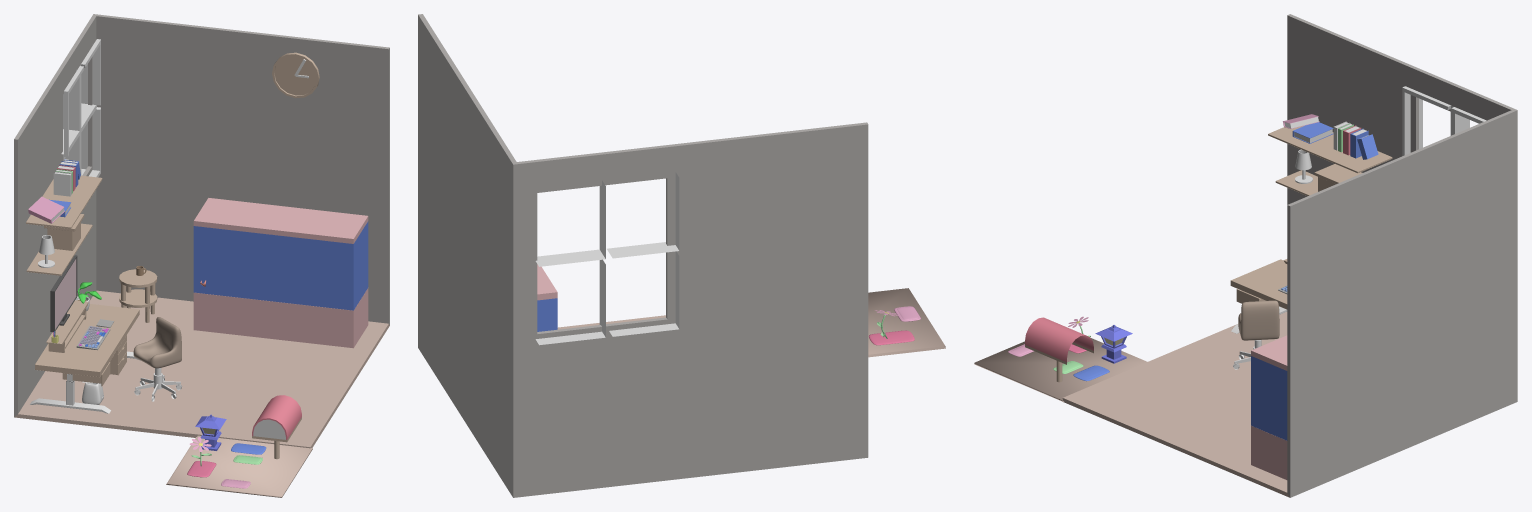
Rendered from FinalRoom.glb.
3 views of the same model, side by side, from view 1: azimuth 30°, elevation 25°; view 2: azimuth 150°, elevation 25°; view 3: azimuth 270°, elevation 25° (orthographic). The views are drawn at different scales.
Parts seen in each view (by area): view 1: BackupRoom, water, Cube.083, Cube.090, Plane, TableTop, Cylinder.015, Cylinder.014, Cube.082, TableTop.006, TableTop.002, TableTop.005 (+11 smaller); view 2: BackupRoom, Plane, Cube.090, water; view 3: BackupRoom, Cube.090, water, Cube.083, Cylinder.015, TableTop.006, Plane, TableTop, Cube.082, Plane.002, TableTop.007, Cube.074.
Part boxes in pixels (box(x1,y1,x2,y2)): BackupRoom: box(14, 14, 389, 448); water: box(193, 221, 368, 310); Cube.083: box(193, 198, 368, 348); Cube.090: box(166, 435, 312, 497); Plane: box(61, 39, 100, 177); TableTop: box(35, 304, 139, 377); Cylinder.015: box(252, 395, 301, 442); Cylinder.014: box(272, 52, 319, 98); Cube.082: box(133, 317, 181, 368); TableTop.006: box(26, 175, 102, 228); TableTop.002: box(46, 300, 88, 352); TableTop.005: box(26, 223, 92, 275); BackupRoom: box(418, 14, 868, 497); Plane: box(535, 172, 679, 345); Cube.090: box(868, 288, 945, 357); water: box(537, 298, 557, 331); BackupRoom: box(1062, 14, 1517, 497); Cube.090: box(974, 338, 1147, 401); water: box(1251, 356, 1287, 440); Cube.083: box(1251, 335, 1287, 479); Cylinder.015: box(1025, 317, 1093, 364); TableTop.006: box(1268, 125, 1392, 173); Plane: box(1402, 86, 1486, 155); TableTop: box(1230, 259, 1287, 309); Cube.082: box(1238, 300, 1279, 340); Plane.002: box(1095, 325, 1132, 363); TableTop.007: box(1314, 164, 1362, 191); Cube.074: box(1292, 122, 1333, 143).
Size of the model in its own units: 23.76 by 16.8 by 28.38.
